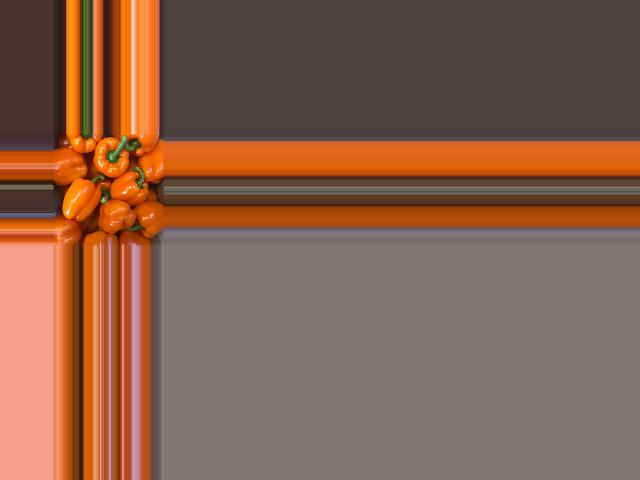bell_pepper: (111, 222, 153, 246)
